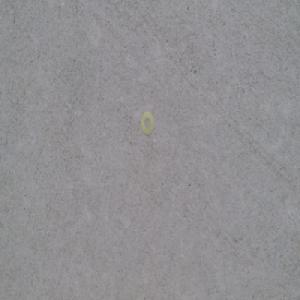Washer: (140, 110, 154, 137)
